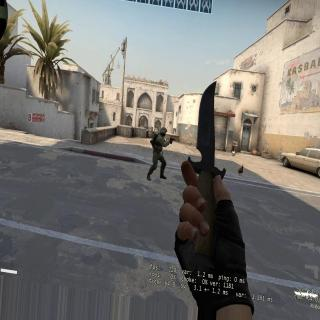CT-Body: (152, 126, 168, 176)
CT-Head: (158, 128, 168, 136)
